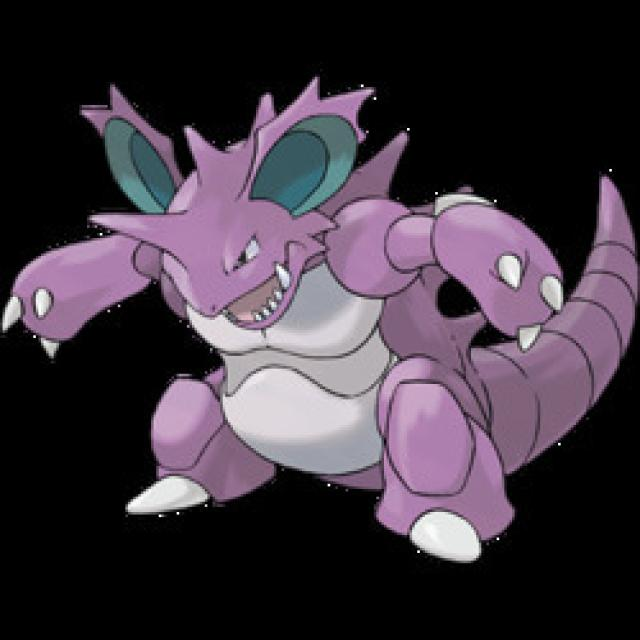Nidoking: (0, 64, 601, 560)
